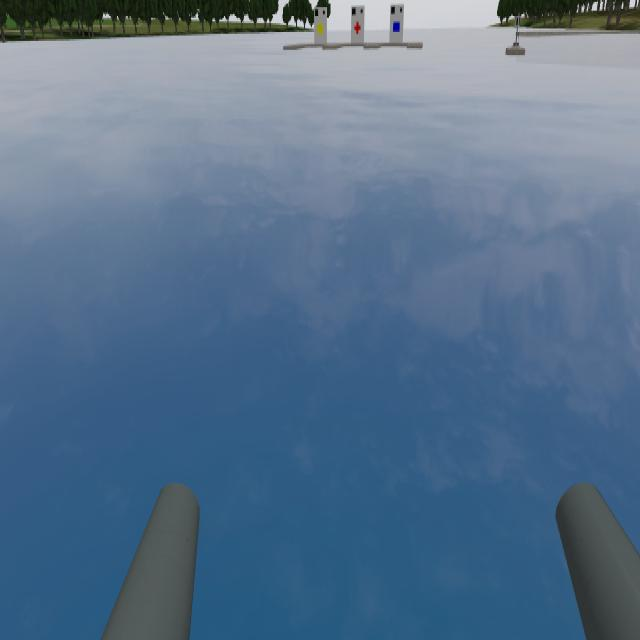black_pole: (511, 12, 525, 34)
